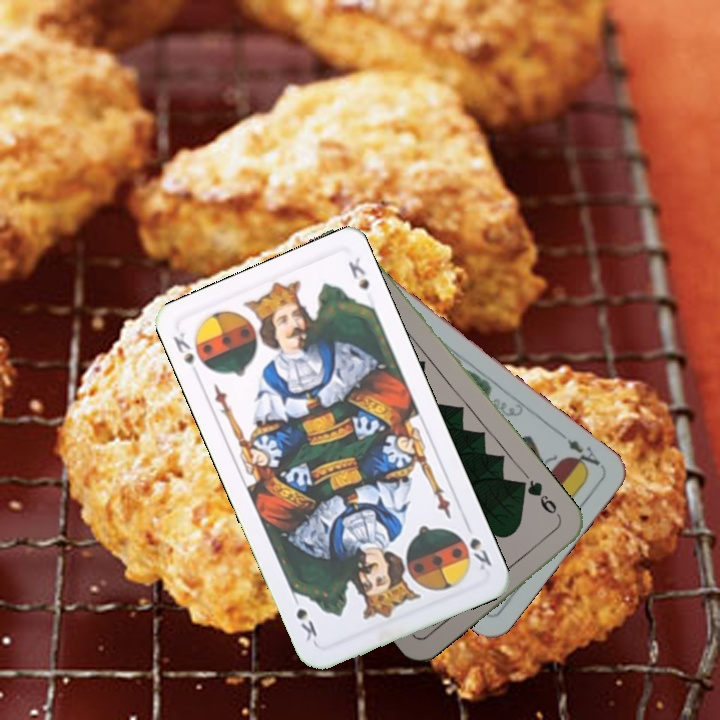EA: (562, 434, 604, 474)
G9: (518, 475, 565, 523)
SK: (169, 327, 203, 381), (465, 533, 495, 573)
